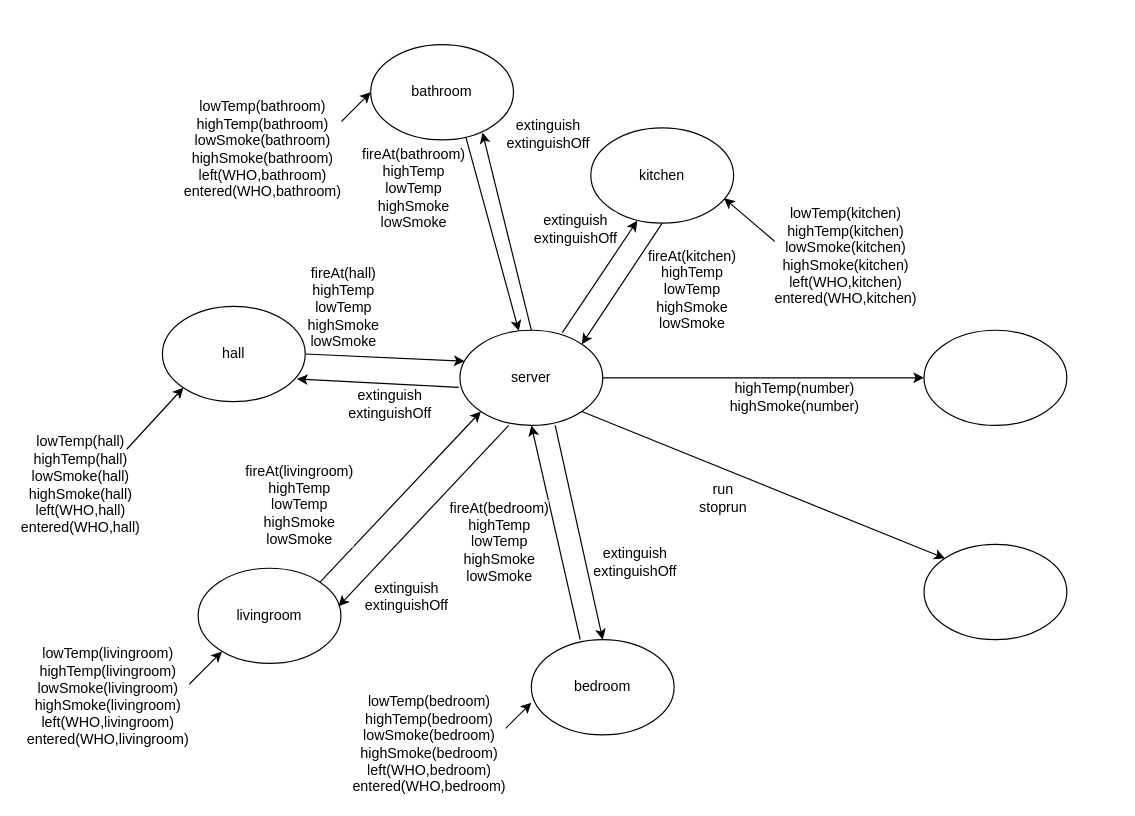
This 1135x816 diagram has some shape labels left out. The box of each missing label's shape, as (x1, y1, x2, y2) in pixels:
guest: (923, 543, 1067, 640)
owner: (923, 329, 1067, 425)
